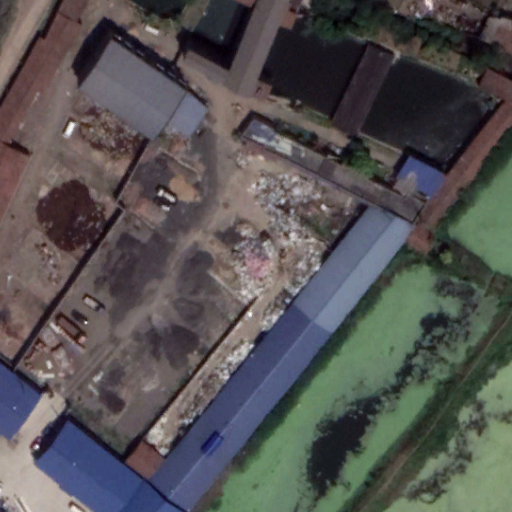msw: (154, 167, 324, 442)
